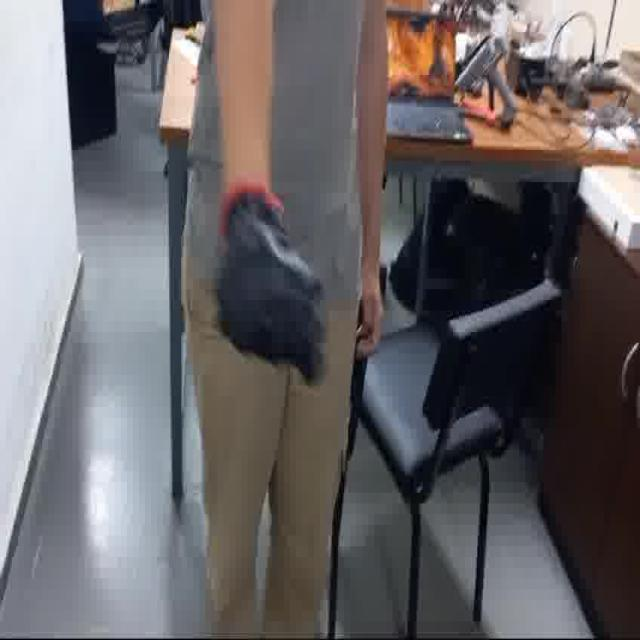Gloves: (208, 188, 331, 386)
